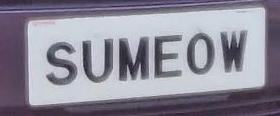0: (183, 27, 218, 83)
E: (151, 28, 188, 87)
M: (114, 32, 152, 89)
S: (42, 36, 81, 92)
U: (78, 34, 116, 90)
W: (217, 25, 249, 81)
